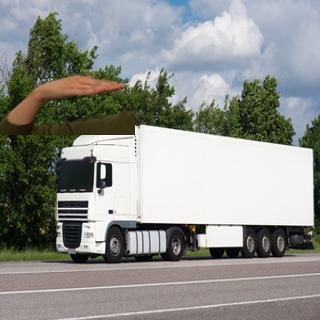WAIT: (33, 70, 126, 103)
